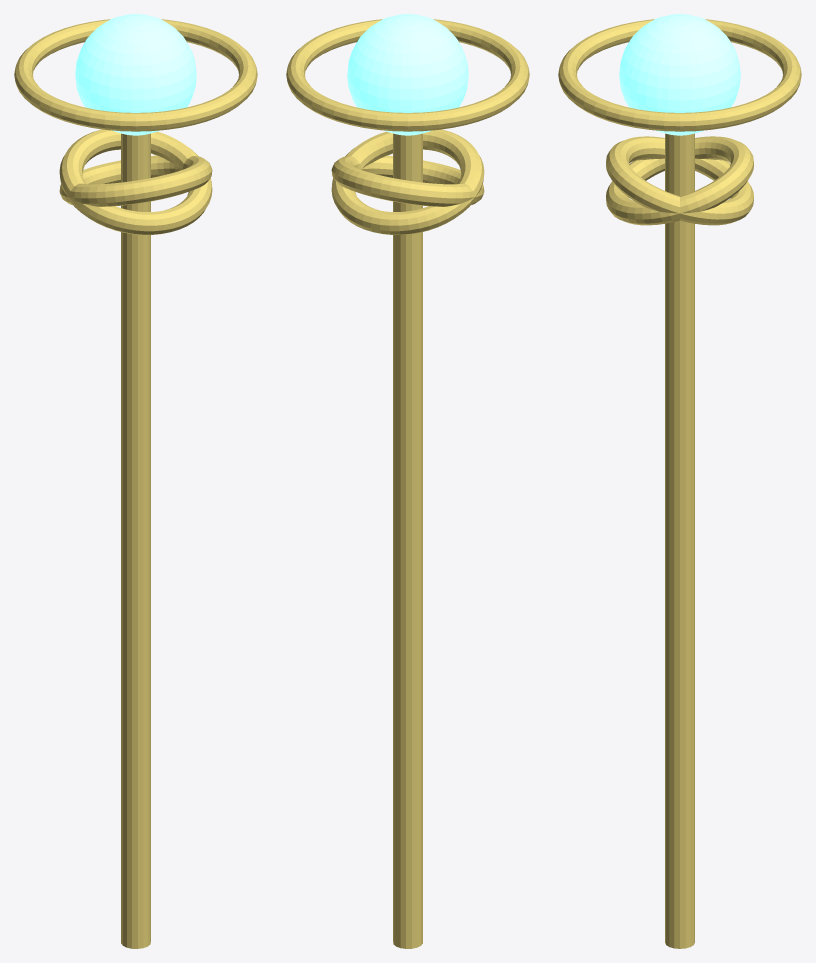
File: kundun_staff.glb
3 views of the same model, side by side, from view 1: azimuth 30°, elevation 25°; view 2: azimuth 150°, elevation 25°; view 3: azimuth 270°, elevation 25° (orthographic).
Parts seen in each view (by area): view 1: Cylinder, Sphere, Torus.002, Torus, Torus.001; view 2: Cylinder, Sphere, Torus.002, Torus.001, Torus; view 3: Cylinder, Sphere, Torus.002, Torus, Torus.001.
Part boxes in pixels (<box>): Cylinder: <box>121,133,150,948</box>; Sphere: <box>75,14,196,135</box>; Torus.002: <box>14,19,257,131</box>; Torus: <box>59,129,212,234</box>; Torus.001: <box>59,155,212,206</box>; Cylinder: <box>393,133,422,948</box>; Sphere: <box>347,14,468,135</box>; Torus.002: <box>286,19,529,131</box>; Torus.001: <box>331,129,484,234</box>; Torus: <box>331,155,484,206</box>; Cylinder: <box>665,133,694,948</box>; Sphere: <box>619,14,740,135</box>; Torus.002: <box>558,19,801,131</box>; Torus: <box>606,136,753,225</box>; Torus.001: <box>606,136,753,225</box>.
Size of the model in its own units: 0.52 by 2.17 by 0.52.
